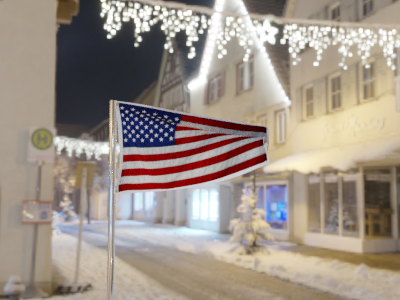America flag: (114, 99, 269, 193)
